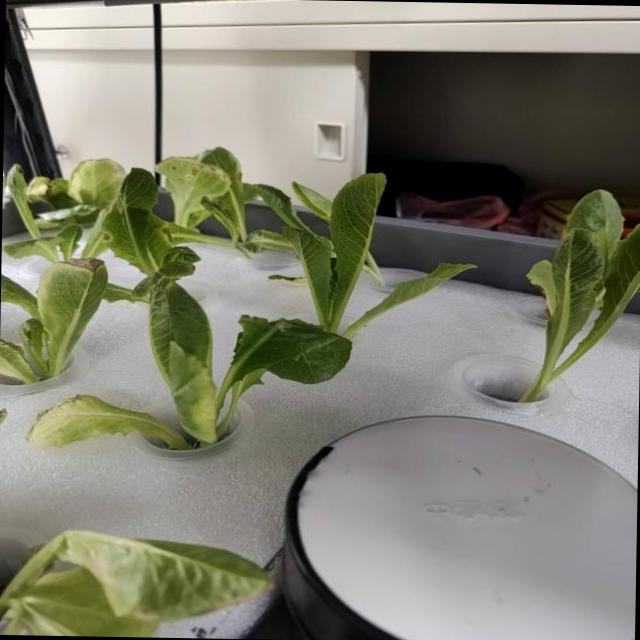Lettuce-Not-Ready-to-Harvest: (26, 277, 351, 449), (283, 174, 474, 338), (0, 529, 267, 636), (520, 190, 640, 401), (156, 147, 291, 255), (0, 257, 107, 382), (102, 168, 199, 302), (3, 165, 107, 263), (26, 159, 126, 228), (267, 274, 307, 285)
